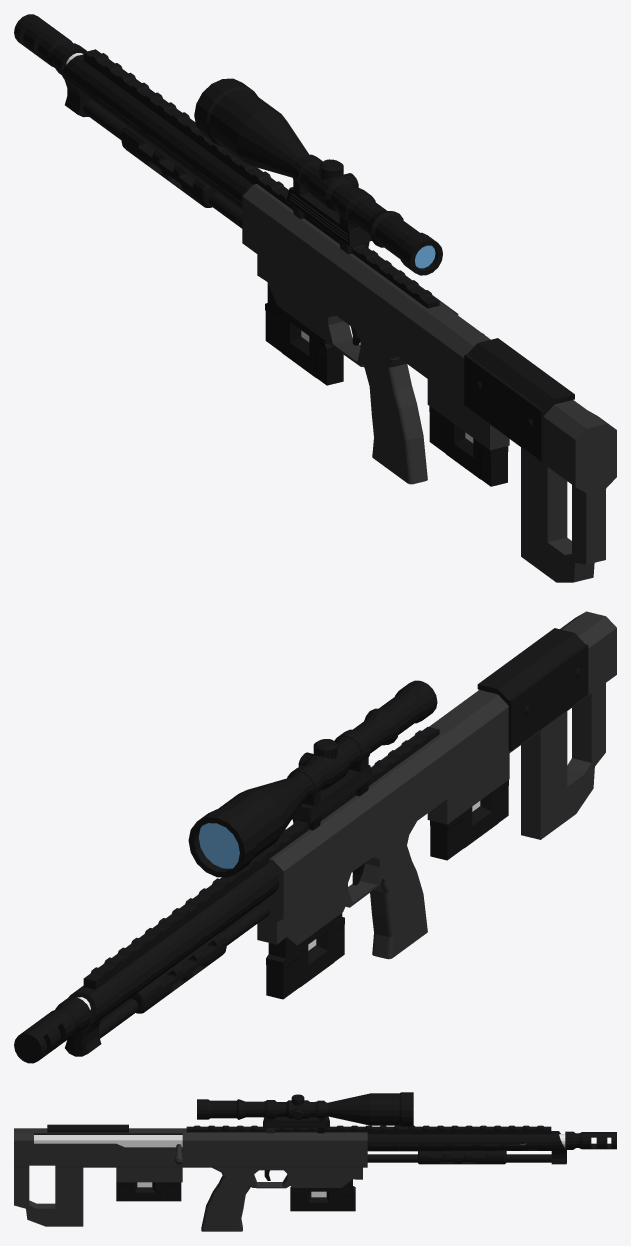
File: DSR-1.fbx
The picture shows the model from 3 angles, top to bottom: view 1: azimuth 30°, elevation 25°; view 2: azimuth 150°, elevation 25°; view 3: azimuth 270°, elevation 25°; orthographic projection. The views are drawn at different scales.
Parts seen in each view (by area): view 1: DSR-1; view 2: DSR-1; view 3: DSR-1.
Boxes of the visible parts, x1,y1,x2,y2 form: DSR-1: (14, 14, 616, 582); DSR-1: (14, 611, 616, 1063); DSR-1: (14, 1092, 616, 1231).
Bounding box in the file's own units: 33.31 × 116 × 466.
